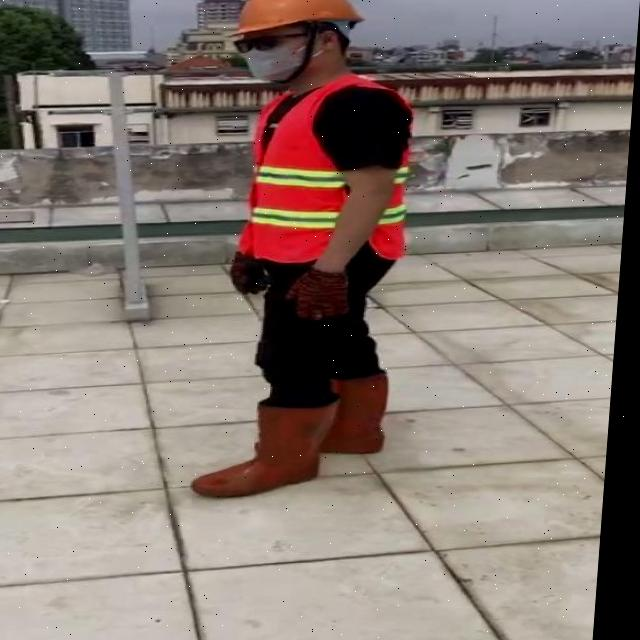Gloves: (287, 266, 356, 321), (233, 251, 275, 295)
Helmet: (227, 0, 366, 45)
Safety-Boot: (197, 394, 347, 497), (327, 369, 397, 455)
Safety-Vest: (244, 75, 419, 265)
